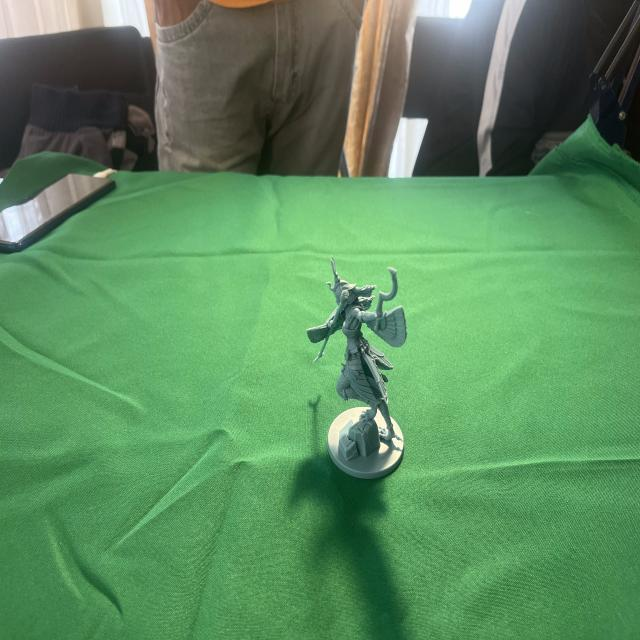isis: (301, 236, 423, 498)
